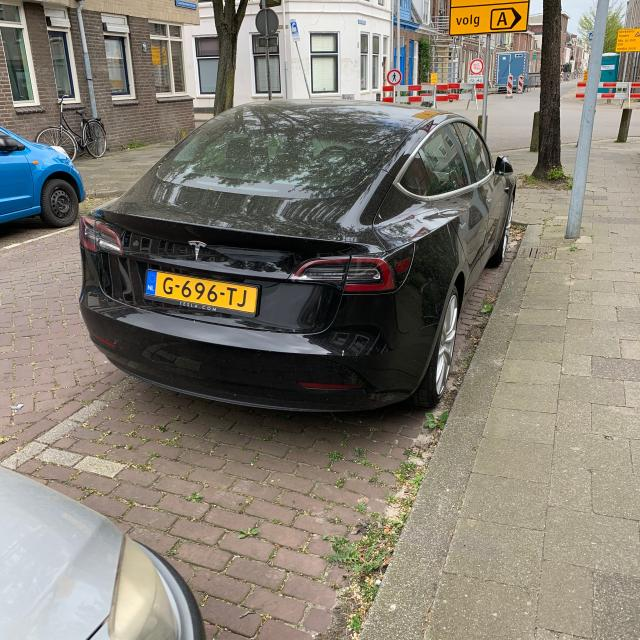plate: (142, 268, 260, 317)
